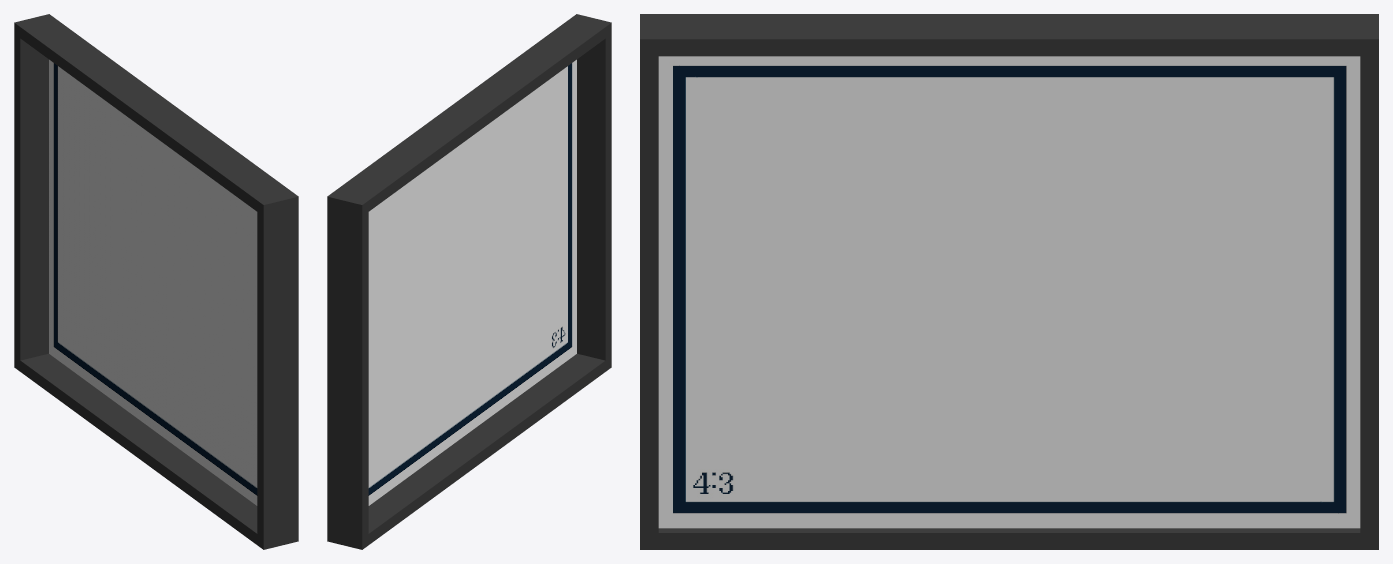
The model's file is BILLBOARD1.fbx.
3 views of the same model, side by side, from view 1: azimuth 30°, elevation 25°; view 2: azimuth 150°, elevation 25°; view 3: azimuth 270°, elevation 25° (orthographic). The views are drawn at different scales.
Visible parts, largest first — view 1: Group_2, Group; view 2: Group_2, Group; view 3: Group_2, Group.
Part boxes in pixels (x1,y1,x2,y2): Group_2: [49, 59, 257, 505]; Group: [14, 14, 298, 549]; Group_2: [368, 59, 576, 505]; Group: [327, 14, 611, 549]; Group_2: [658, 56, 1360, 528]; Group: [640, 14, 1378, 549].
Size of the model in its own units: 100 by 939 by 1231.
2 materials, 1 textured.
